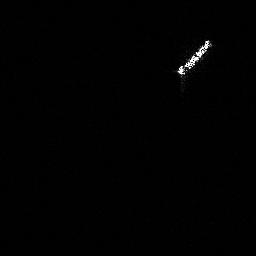ship: (172, 39, 213, 97)
